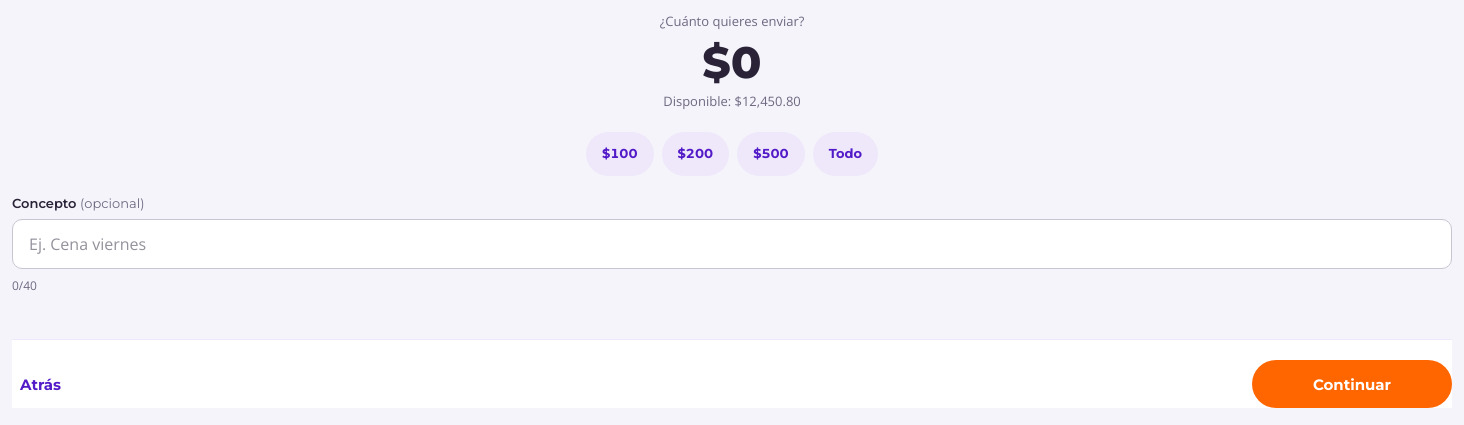
Test: AmountStep › sets the amount from a quick chip and the whole balance from Todo
Expected: the field labelled "¿Cuánto quieres enviar?" is shown, [731,36,762,88]
Expected: the text "Disponible: $12,450.80" is shown, [663,92,801,112]
Click the button "$500": [771, 154] box [737,132,805,176]
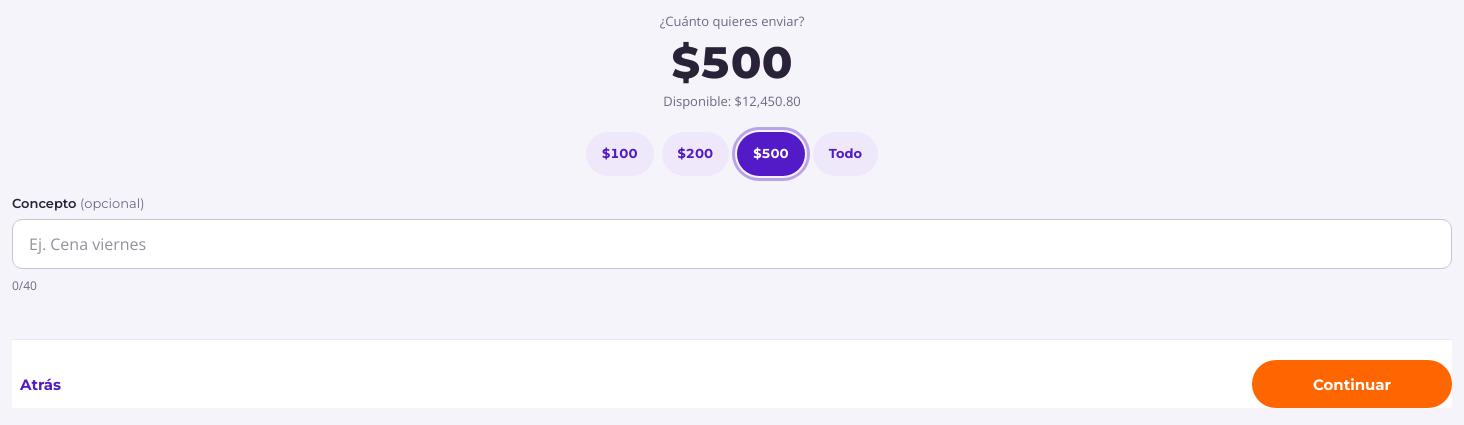
Expected: the field labelled "¿Cuánto quieres enviar?" holds "500", [700,36,792,88]
Click the button "Todo": [845, 154] box [813,132,878,176]
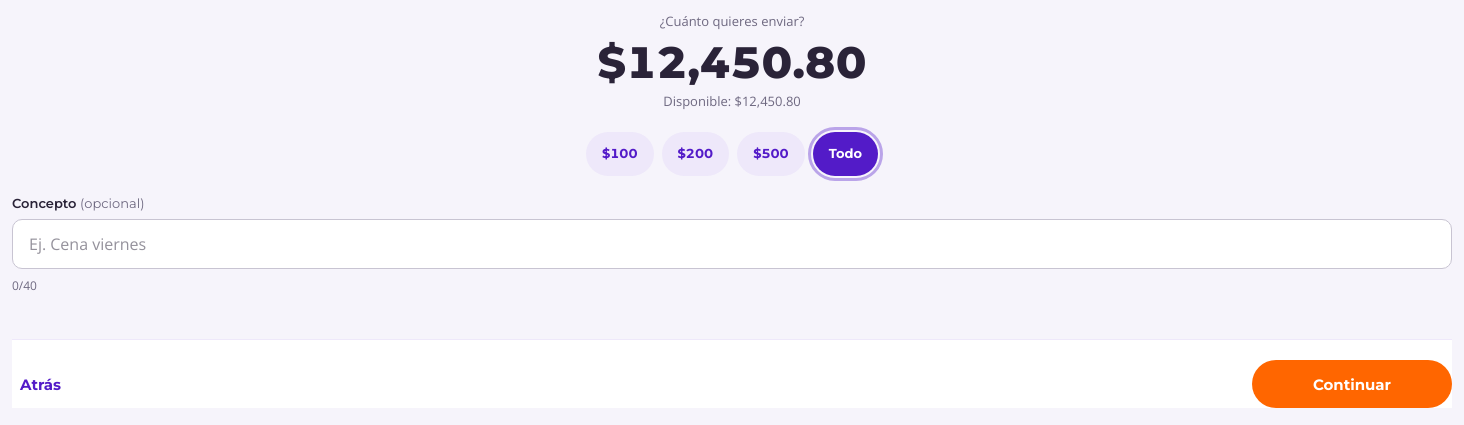
Expected: the field labelled "¿Cuánto quieres enviar?" holds "12,450.80", [626,36,866,88]
